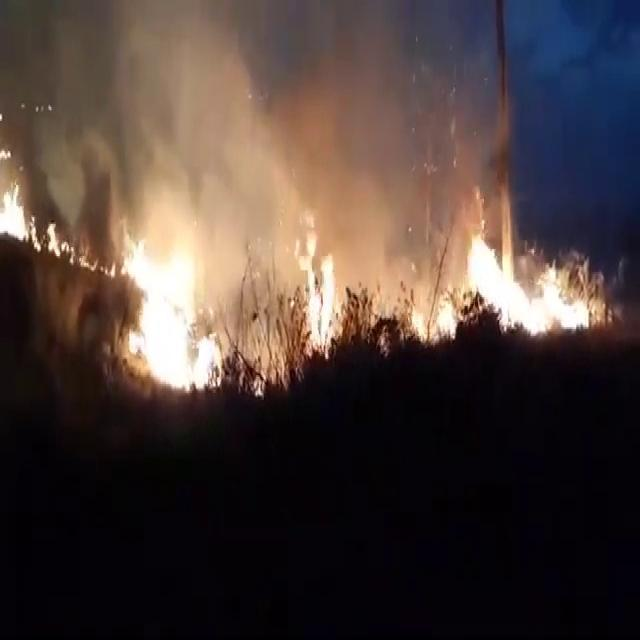Fire: (426, 216, 599, 342), (126, 235, 223, 393), (295, 220, 337, 358), (46, 225, 111, 278), (1, 172, 31, 245)
Smoke: (31, 2, 495, 220), (282, 0, 418, 208), (334, 0, 428, 297), (107, 11, 279, 160)
